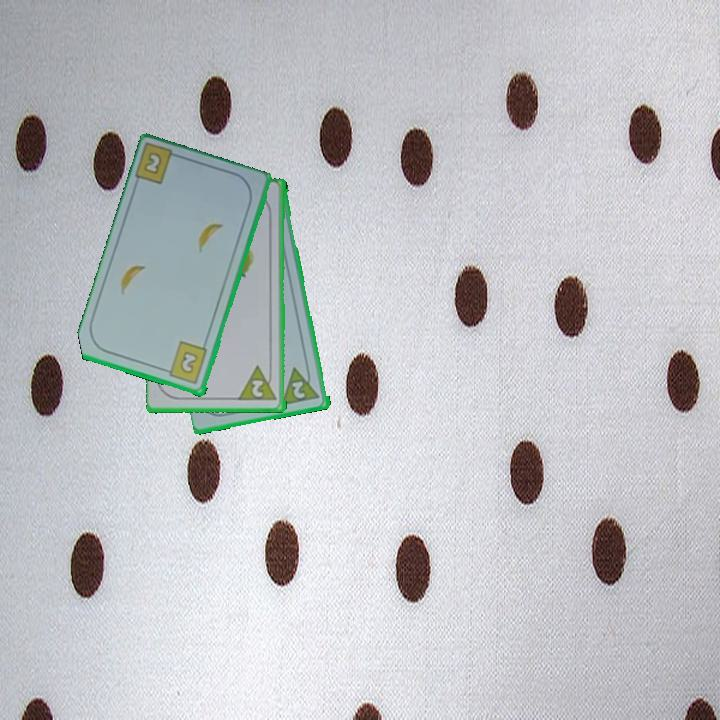2b: (160, 338, 211, 387), (140, 151, 163, 178)
2p: (289, 378, 309, 402), (249, 377, 266, 400)
